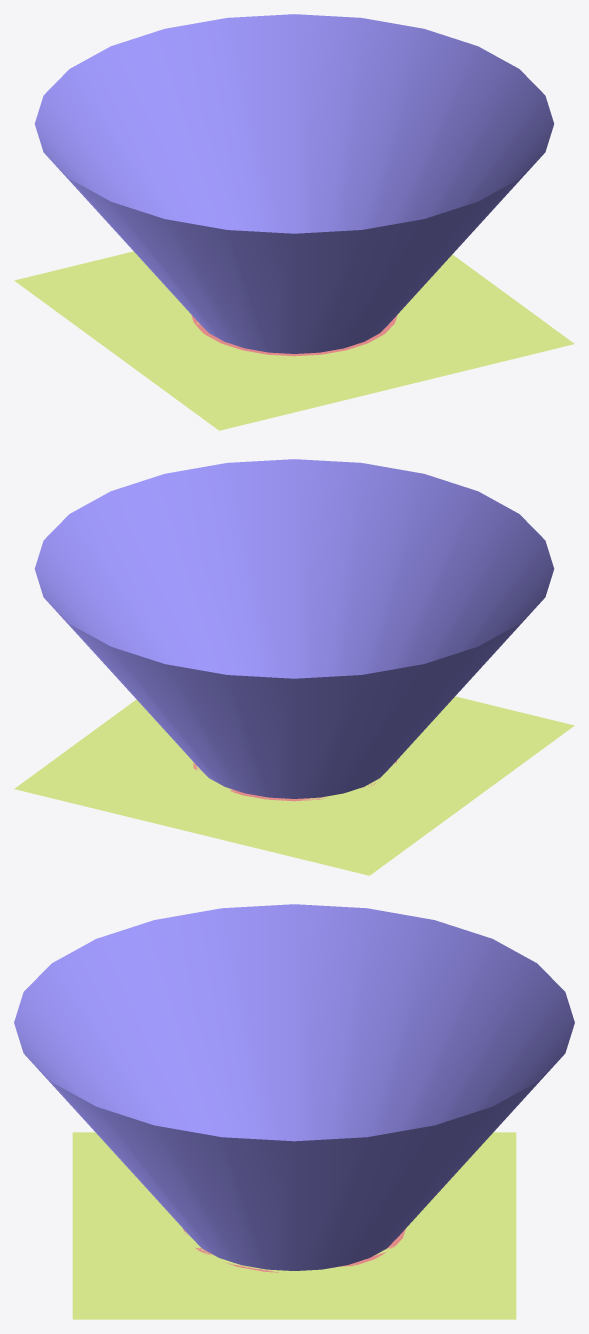
The model's file is Light_DengPian6_2X2_on.FBX.
3 renders of one model, top to bottom at view 1: azimuth 30°, elevation 25°; view 2: azimuth 150°, elevation 25°; view 3: azimuth 270°, elevation 25°, orthographic. The views are drawn at different scales.
Visible parts, largest first — view 1: Box002; view 2: Box002; view 3: Box002.
Boxes of the visible parts, x1,y1,x2,y2 form: Box002: (14, 14, 574, 430); Box002: (14, 459, 574, 875); Box002: (14, 904, 574, 1319).
Size of the model in its own units: 5 by 2.2 by 5.
